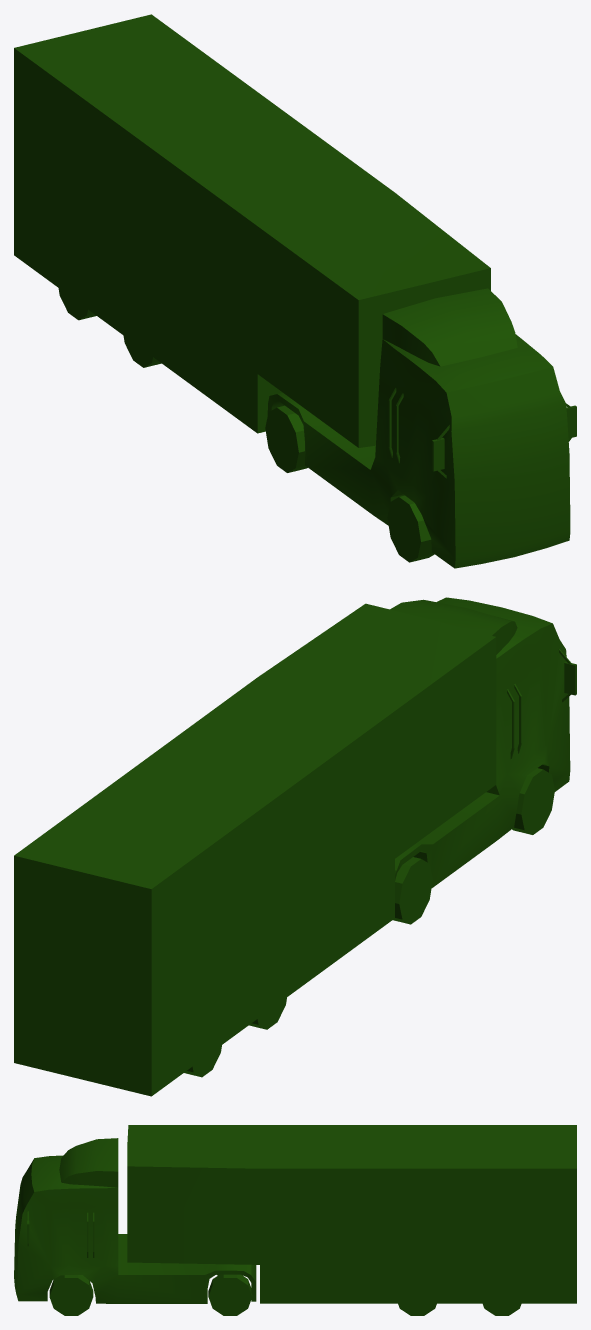
Rendered from Vehicle05C.fbx.
3 renders of one model, top to bottom at view 1: azimuth 30°, elevation 25°; view 2: azimuth 150°, elevation 25°; view 3: azimuth 270°, elevation 25°, orthographic. The views are drawn at different scales.
Parts seen in each view (by area): view 1: Vehicle05C; view 2: Vehicle05C; view 3: Vehicle05C.
Boxes of the visible parts, x1=… form: Vehicle05C: x1=14, y1=14, x2=576, y2=568; Vehicle05C: x1=14, y1=597, x2=576, y2=1096; Vehicle05C: x1=14, y1=1125, x2=576, y2=1315.
Bounding box in the file's own units: 1.81 × 2.74 × 9.43.
